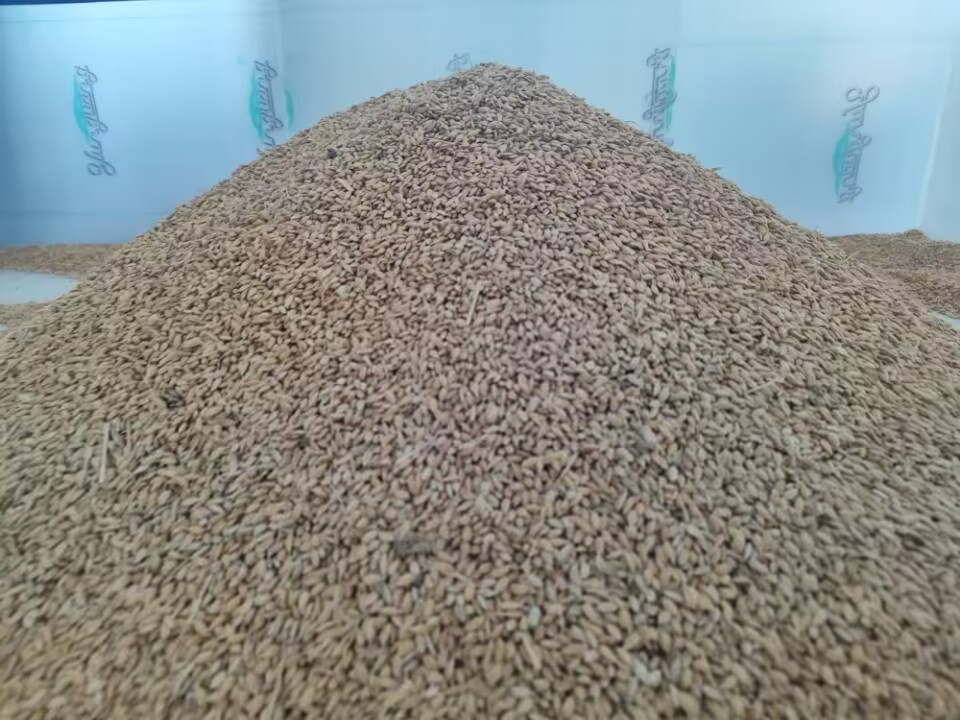Grain: (5, 56, 947, 657)
